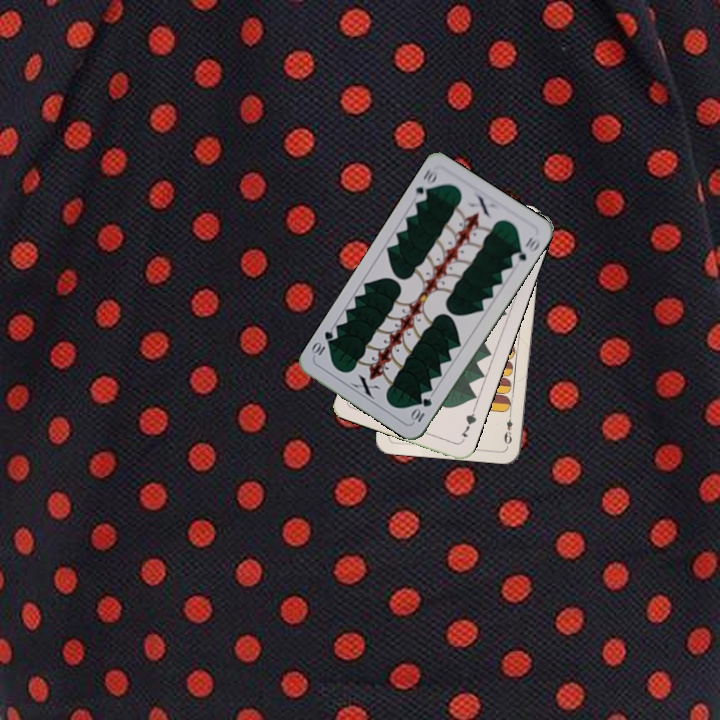E9: (500, 408, 515, 448)
G10: (410, 165, 441, 205), (407, 394, 435, 426)
G7: (457, 405, 479, 440)
